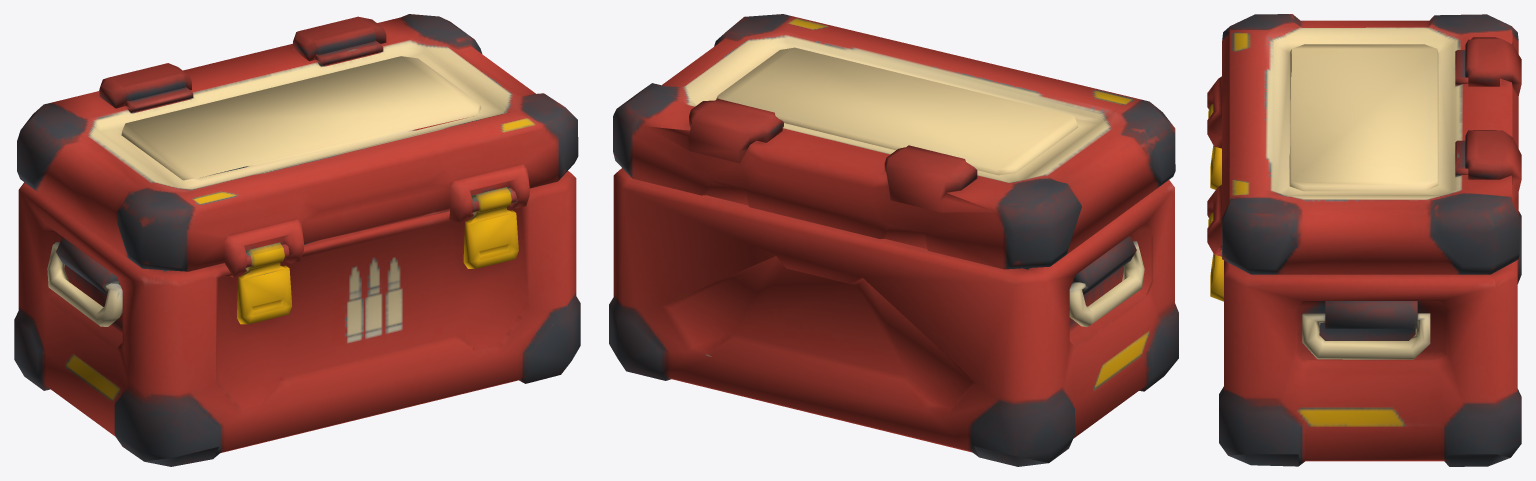
Rendered from ammo_box_01.glb.
3 views of the same model, side by side, from view 1: azimuth 30°, elevation 25°; view 2: azimuth 150°, elevation 25°; view 3: azimuth 270°, elevation 25° (orthographic). The views are drawn at different scales.
Visible parts, largest first — view 1: ammo_box_01; view 2: ammo_box_01; view 3: ammo_box_01.
Boxes of the visible parts, x1,y1,x2,y2 form: ammo_box_01: [14, 14, 580, 466]; ammo_box_01: [609, 14, 1178, 466]; ammo_box_01: [1207, 14, 1521, 466].
Size of the model in its own units: 0.3 by 0.1747 by 0.1865.
Materials: 1 (1 with a texture image).
